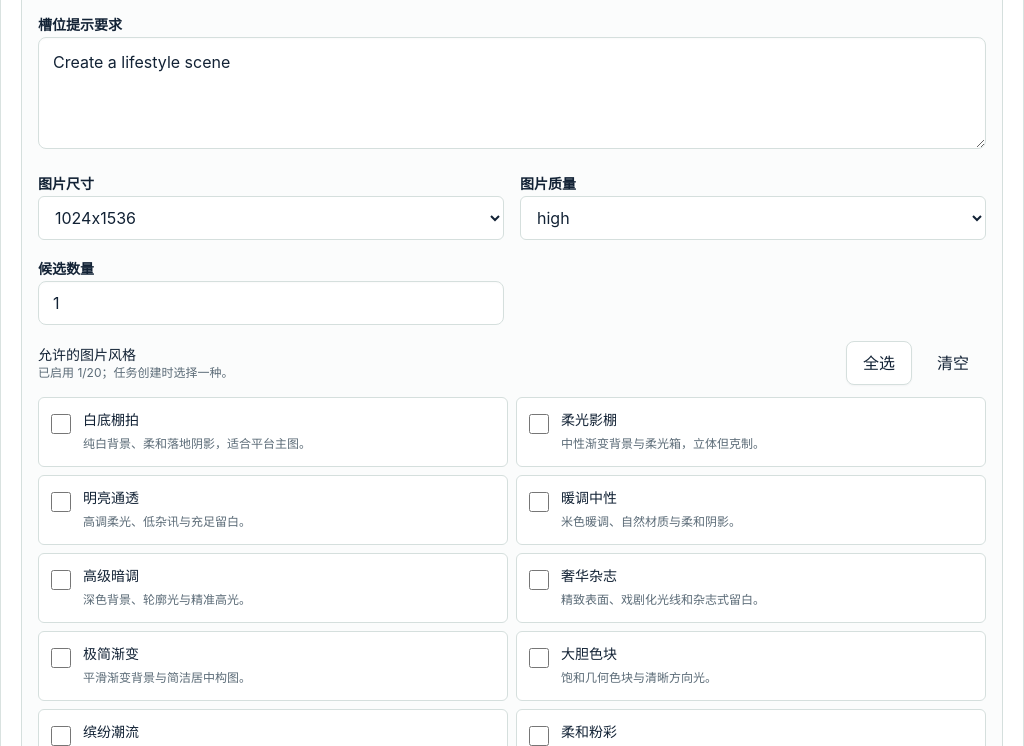
Test case: NewAITemplatePage › normalizes a legacy default style when selecting all current styles
(page scrolled)
Click the button "全选".
click(879, 363)  # box [846, 341, 912, 385]
(page scrolled)
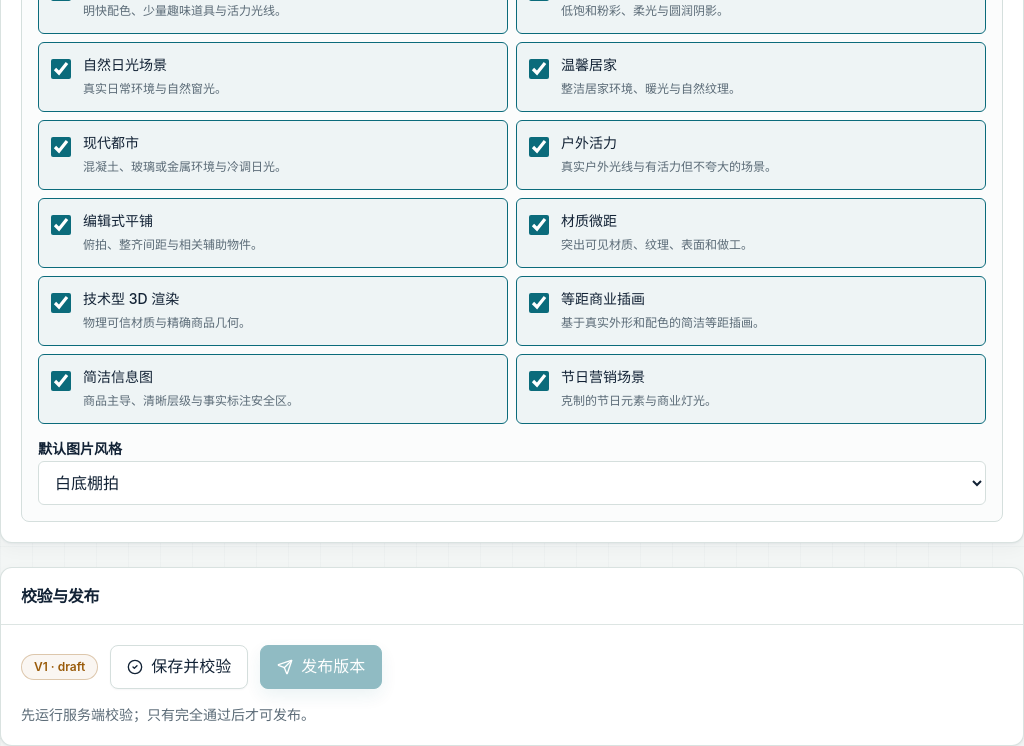
Now the dropdown labelled "默认图片风格" shows "白底棚拍", box [38, 461, 986, 505]
Click the button "保存并校验".
click(179, 667)  # box [110, 645, 248, 689]
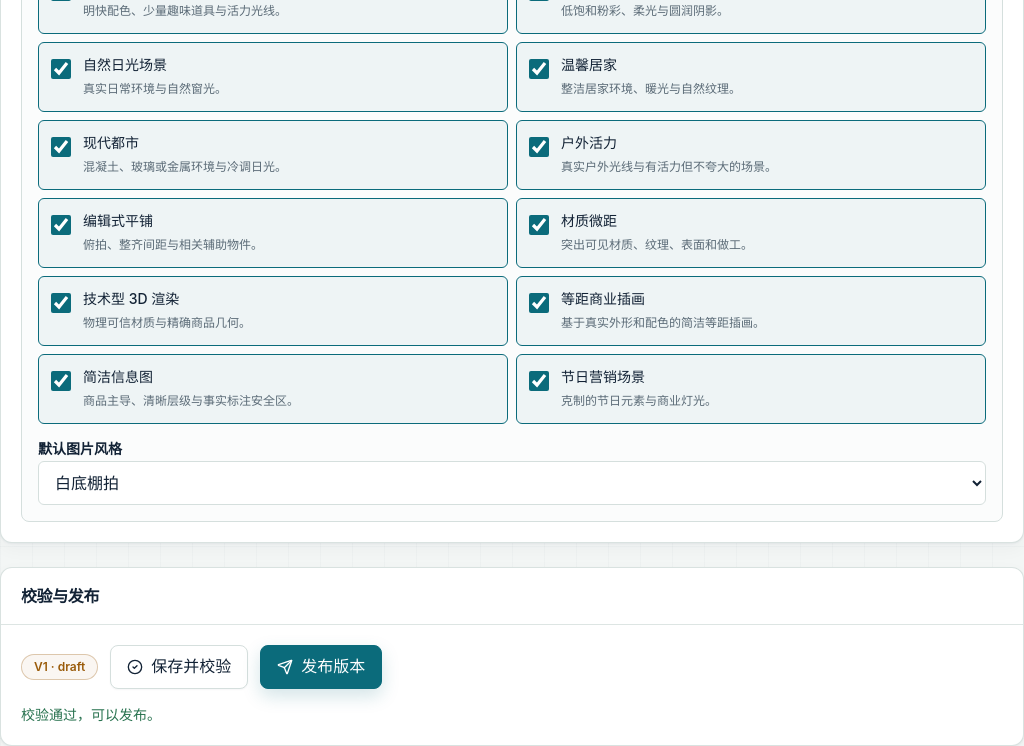
Now the text "校验通过，可以发布。" is shown, box [21, 706, 161, 723]
Now the button "发布版本" is enabled, box [260, 645, 382, 689]
